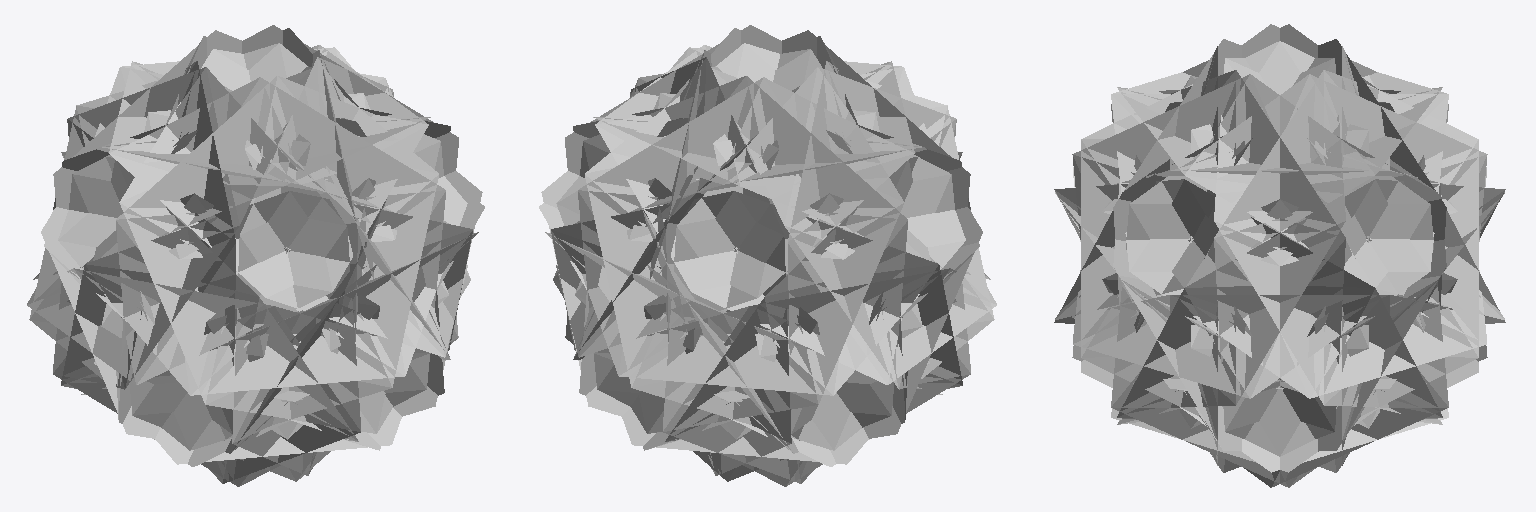
File: bang.obj
3 views of the same model, side by side, from view 1: azimuth 30°, elevation 25°; view 2: azimuth 150°, elevation 25°; view 3: azimuth 270°, elevation 25° (orthographic).
Size of the model in its own units: 28.84 by 28.71 by 28.59.